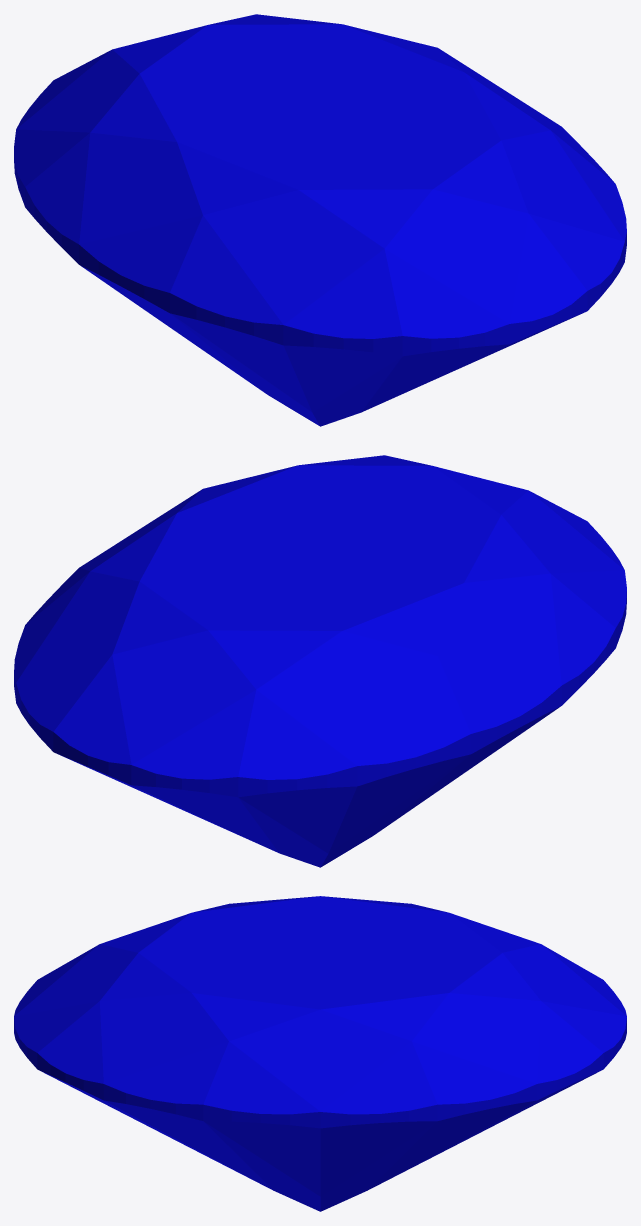
Rendered from Head_No Halo_Oval_1.0ct_Diamond.glb.
3 renders of one model, top to bottom at view 1: azimuth 30°, elevation 25°; view 2: azimuth 150°, elevation 25°; view 3: azimuth 270°, elevation 25°, orthographic. The views are drawn at different scales.
Size of the model in its own units: 0.00566 by 0.00358 by 0.00768.
